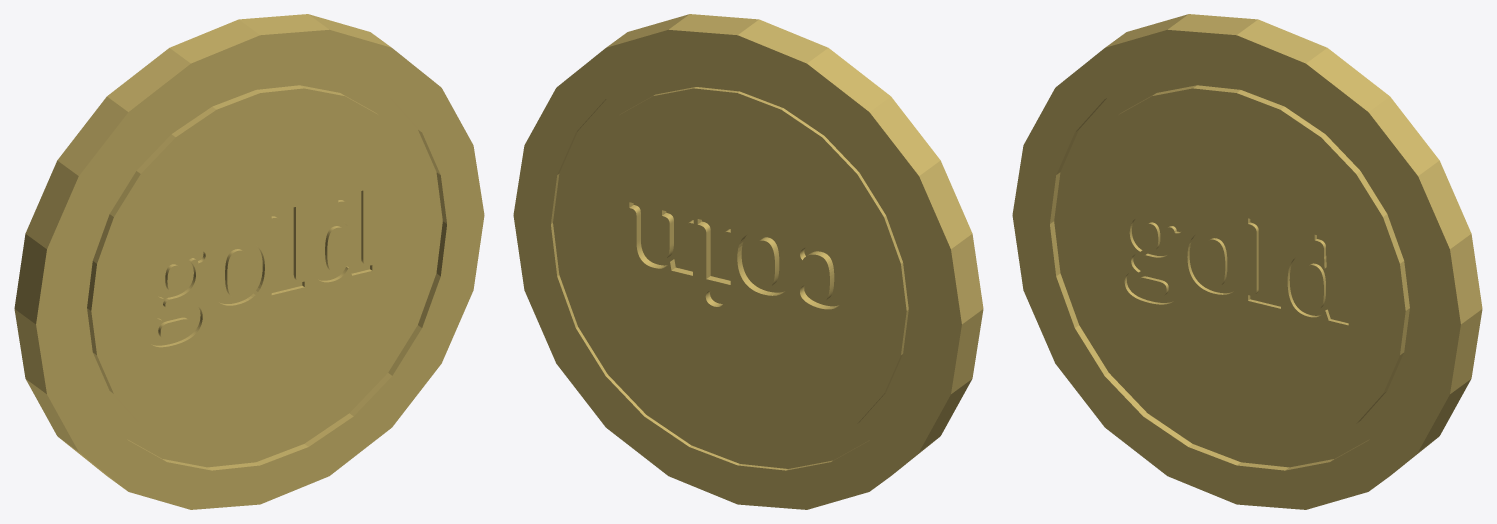
Rendered from Copy of gold coin.glb.
The picture shows the model from 3 angles, left to right: view 1: azimuth 30°, elevation 25°; view 2: azimuth 150°, elevation 25°; view 3: azimuth 330°, elevation 25°; orthographic projection.
Parts seen in each view (by area): view 1: Mesh_Mesh_head_geo.001_lambert2SG.001; view 2: Mesh_Mesh_head_geo.001_lambert2SG.001; view 3: Mesh_Mesh_head_geo.001_lambert2SG.001.
Boxes of the visible parts, x1,y1,x2,y2 form: Mesh_Mesh_head_geo.001_lambert2SG.001: (14, 14, 484, 509); Mesh_Mesh_head_geo.001_lambert2SG.001: (513, 14, 983, 509); Mesh_Mesh_head_geo.001_lambert2SG.001: (1012, 14, 1482, 509).
Bounding box in the file's own units: 120 × 120 × 10.
